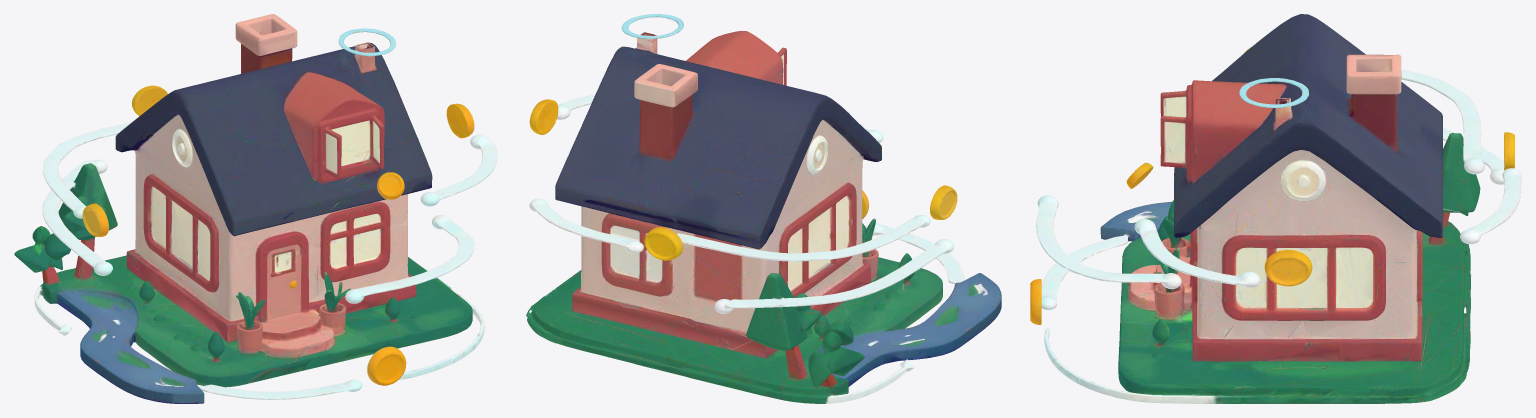
File: orbiting_home.glb
3 views of the same model, side by side, from view 1: azimuth 30°, elevation 25°; view 2: azimuth 150°, elevation 25°; view 3: azimuth 270°, elevation 25° (orthographic). The views are drawn at different scales.
Visible parts, largest first — view 1: Mesh_0; view 2: Mesh_0; view 3: Mesh_0.
Boxes of the visible parts, box(x1,y1,x2,y2) form: Mesh_0: box(14, 14, 497, 403); Mesh_0: box(526, 14, 1001, 403); Mesh_0: box(1030, 14, 1521, 403).
Size of the model in its own units: 0.2 by 0.12 by 0.1888.
Materials: 1 (1 with a texture image).
